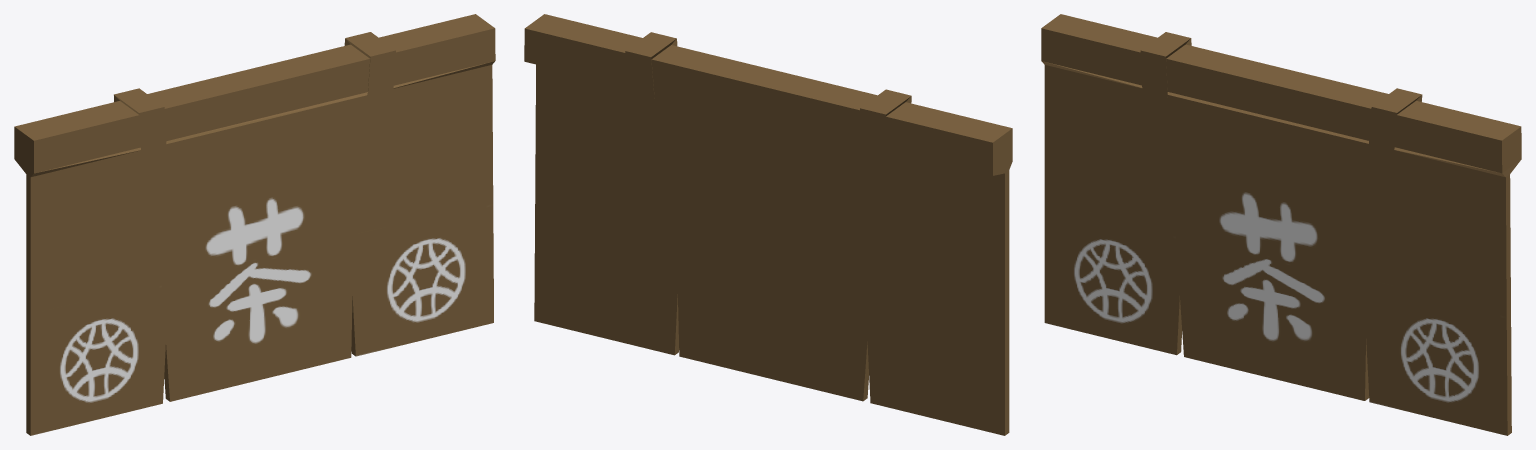
File: Noren_Brown_Tea.gltf
3 renders of one model, left to right at view 1: azimuth 30°, elevation 25°; view 2: azimuth 150°, elevation 25°; view 3: azimuth 330°, elevation 25°, orthographic.
Visible parts, largest first — view 1: Noren_Brown_Tea; view 2: Noren_Brown_Tea; view 3: Noren_Brown_Tea.
Part boxes in pixels (x1,y1,x2,y2): Noren_Brown_Tea: (14,14,495,435); Noren_Brown_Tea: (524,14,1012,435); Noren_Brown_Tea: (1041,14,1521,435).
Size of the model in its own units: 1 by 0.6267 by 0.0953.
1 material, 1 textured.
